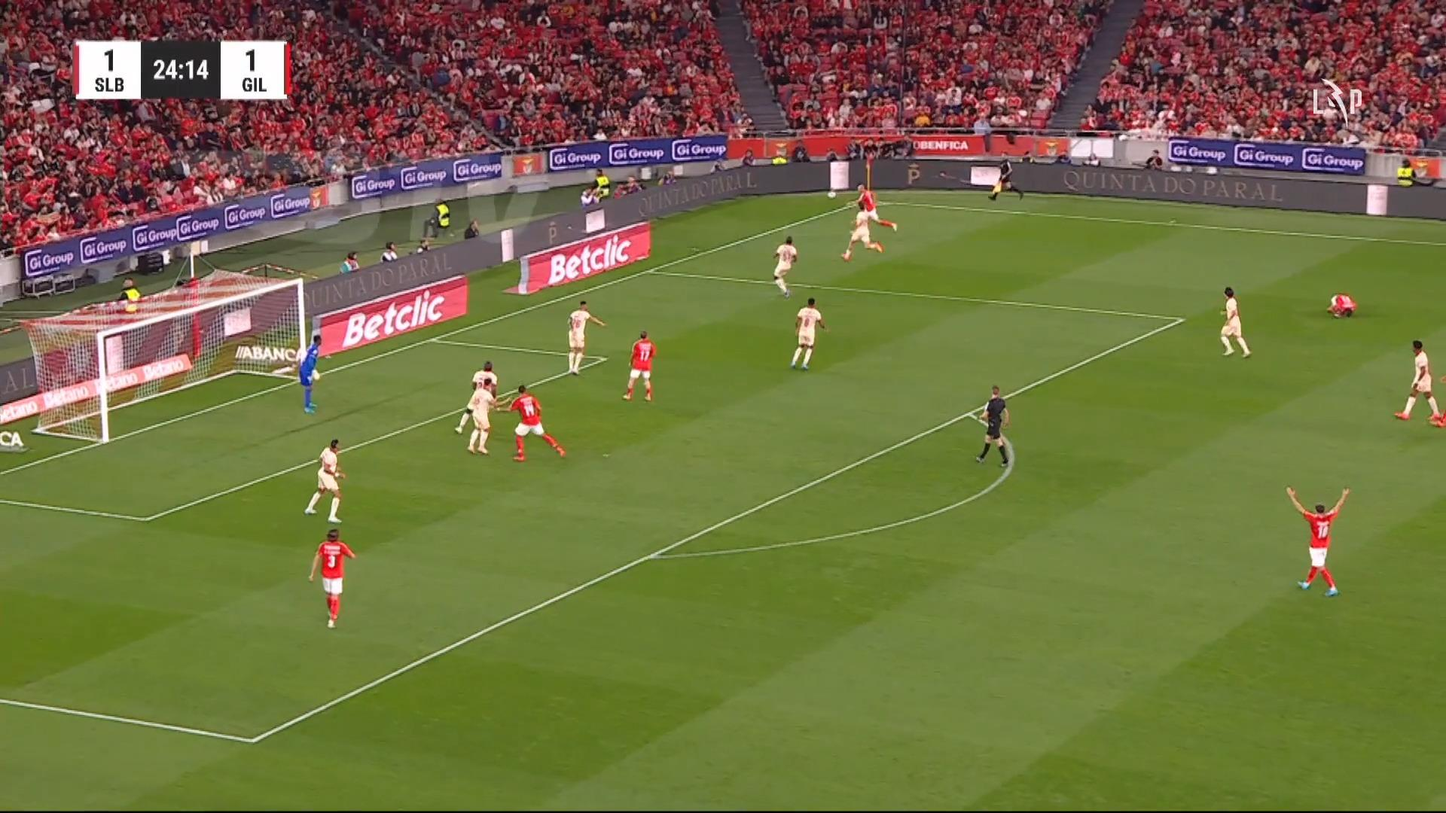ball: (1314, 503, 1324, 513), (826, 190, 835, 199)
goalkeeper: (297, 333, 325, 414)
player: (1284, 484, 1350, 597), (498, 384, 566, 462), (307, 527, 356, 629), (1393, 339, 1443, 425), (304, 438, 346, 522), (454, 360, 499, 434), (841, 204, 897, 261), (566, 299, 606, 376), (789, 297, 827, 370), (464, 379, 499, 455), (621, 330, 656, 401), (1218, 286, 1251, 358), (772, 235, 798, 297), (846, 181, 877, 221), (470, 359, 498, 401), (1326, 293, 1356, 318)
referee: (973, 384, 1011, 467), (987, 154, 1023, 201)
